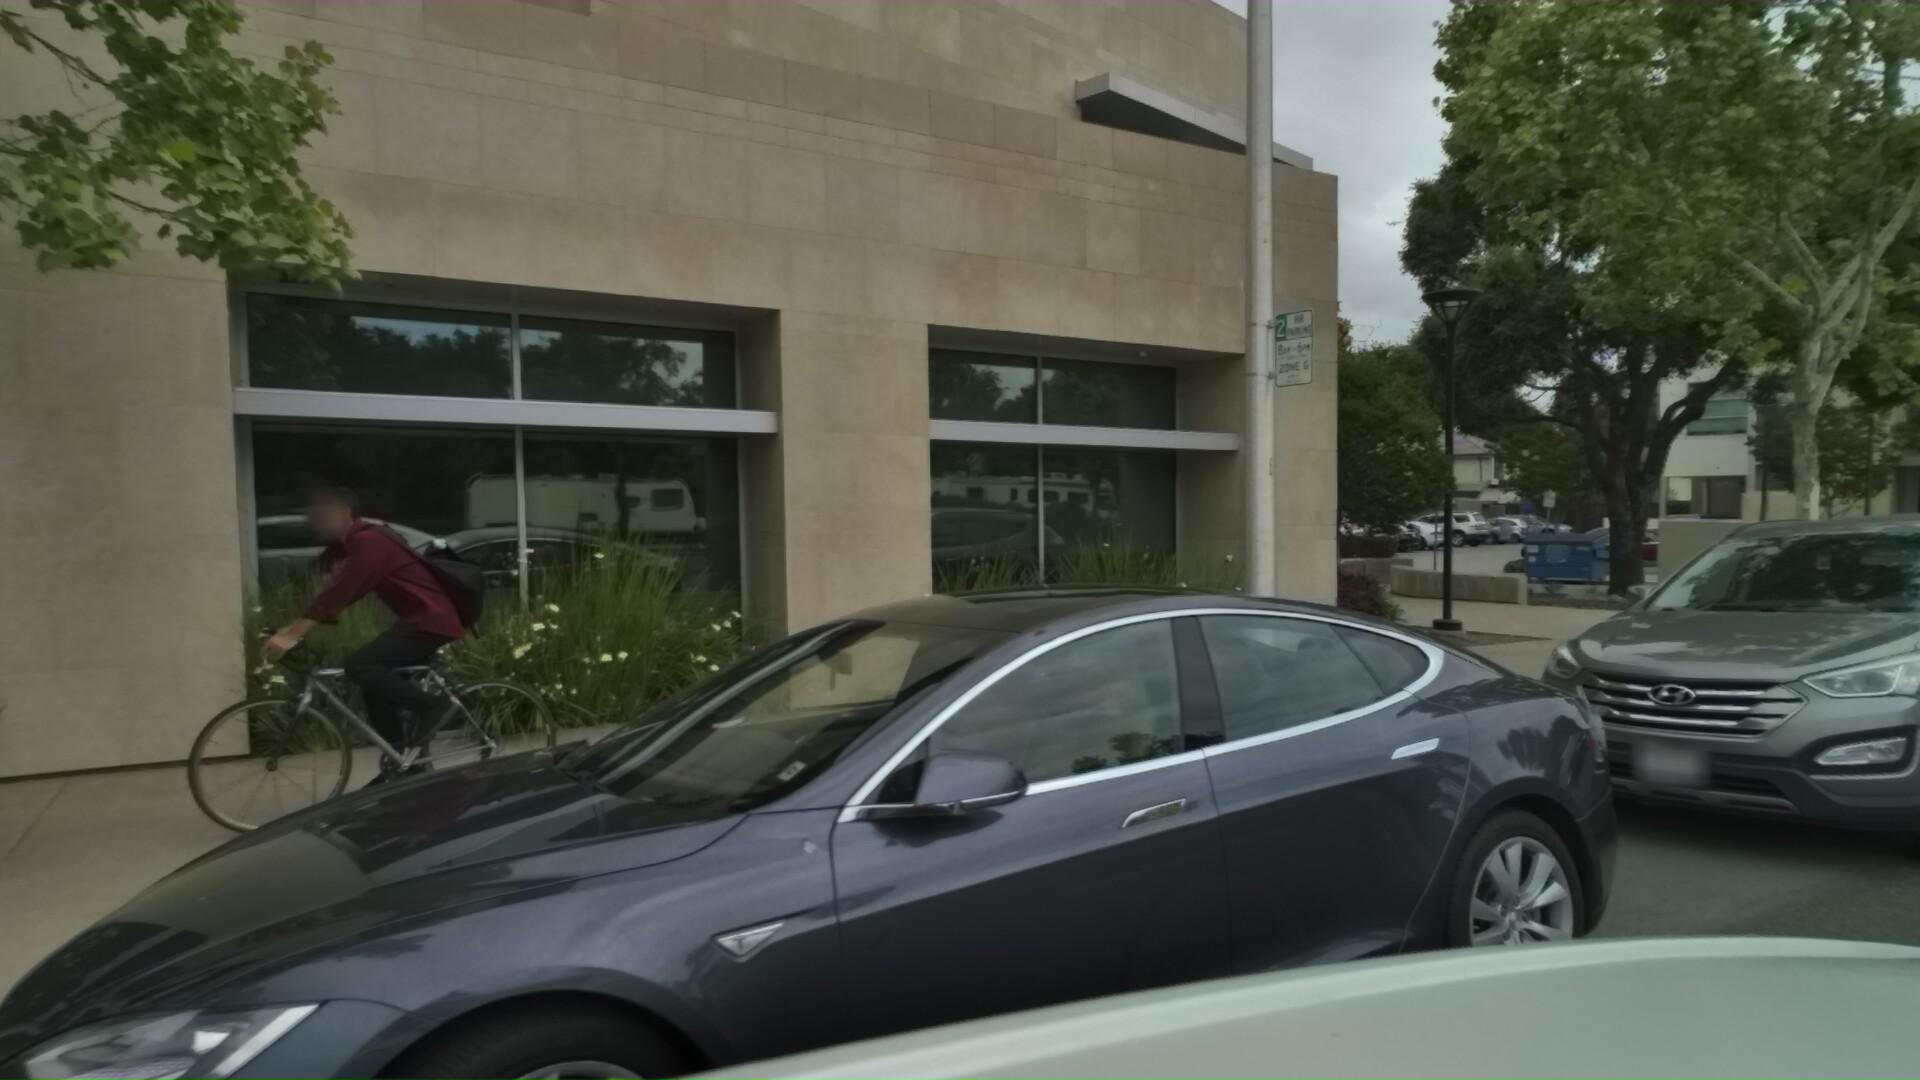bicycle: (256, 454, 645, 858)
car: (51, 545, 1805, 1080), (1545, 498, 1920, 923), (1564, 514, 1730, 564)
